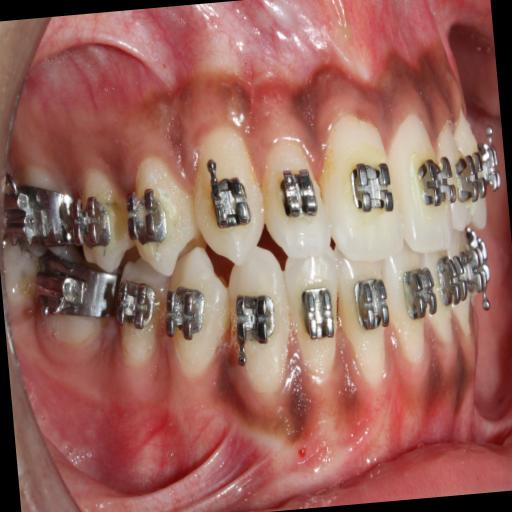correct_brace: (158, 247, 236, 381), (126, 151, 202, 280), (205, 162, 256, 236), (232, 288, 282, 349), (350, 158, 398, 220), (160, 284, 212, 340), (416, 147, 458, 216), (296, 284, 341, 348), (276, 165, 318, 221)
incorrect_brace: (254, 126, 334, 274), (280, 246, 354, 374), (122, 178, 172, 252)
